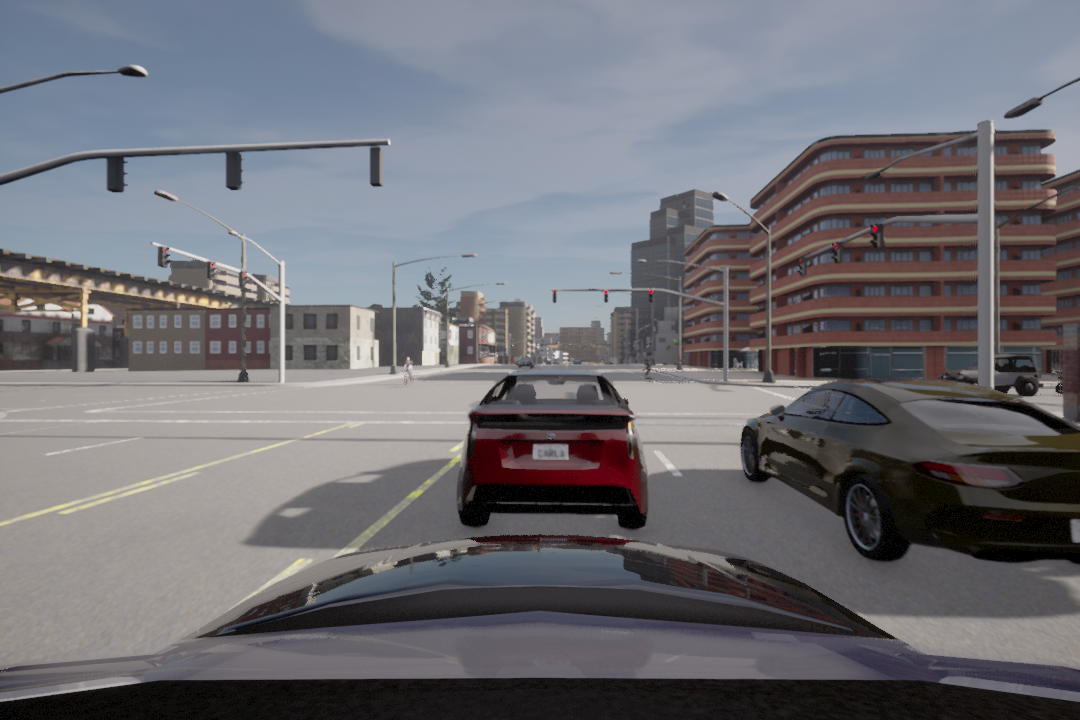TrafficLight: (828, 241, 847, 267), (869, 223, 885, 251), (794, 252, 808, 280), (155, 247, 171, 270), (204, 261, 218, 287), (237, 269, 249, 294), (645, 288, 655, 307), (603, 288, 611, 307), (551, 288, 558, 306)
